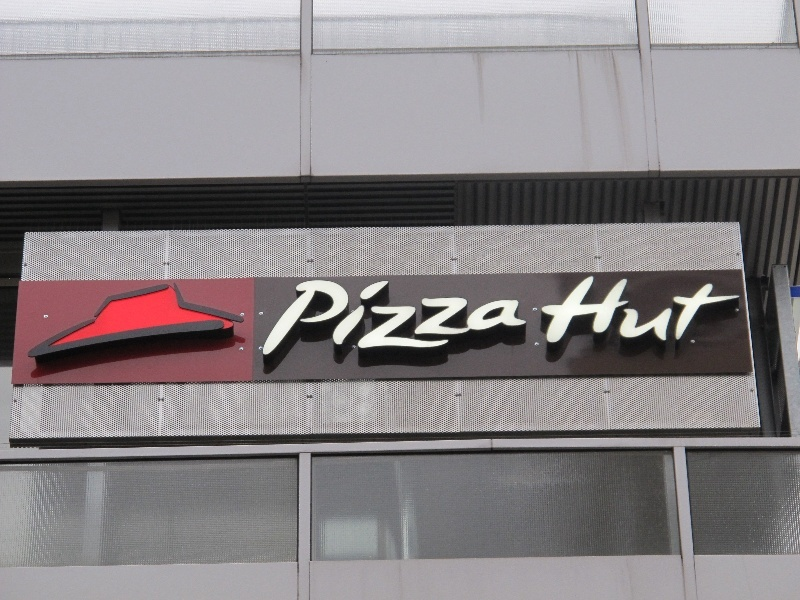text: (289, 279, 304, 358), (305, 279, 320, 358), (321, 279, 336, 358), (337, 279, 352, 358), (353, 279, 368, 358), (369, 279, 384, 358), (385, 279, 400, 358), (401, 279, 416, 358), (417, 279, 432, 358), (433, 279, 448, 358), (449, 279, 464, 358), (465, 279, 480, 358), (481, 279, 496, 358), (497, 279, 512, 358), (513, 279, 527, 358), (545, 275, 560, 345), (561, 275, 576, 345), (577, 275, 592, 345), (593, 275, 608, 345), (609, 275, 624, 345), (625, 275, 640, 345), (641, 275, 656, 345), (657, 275, 672, 345), (673, 275, 688, 345), (689, 275, 704, 345), (705, 275, 720, 345), (721, 275, 736, 345), (276, 279, 288, 358), (737, 275, 741, 345)
